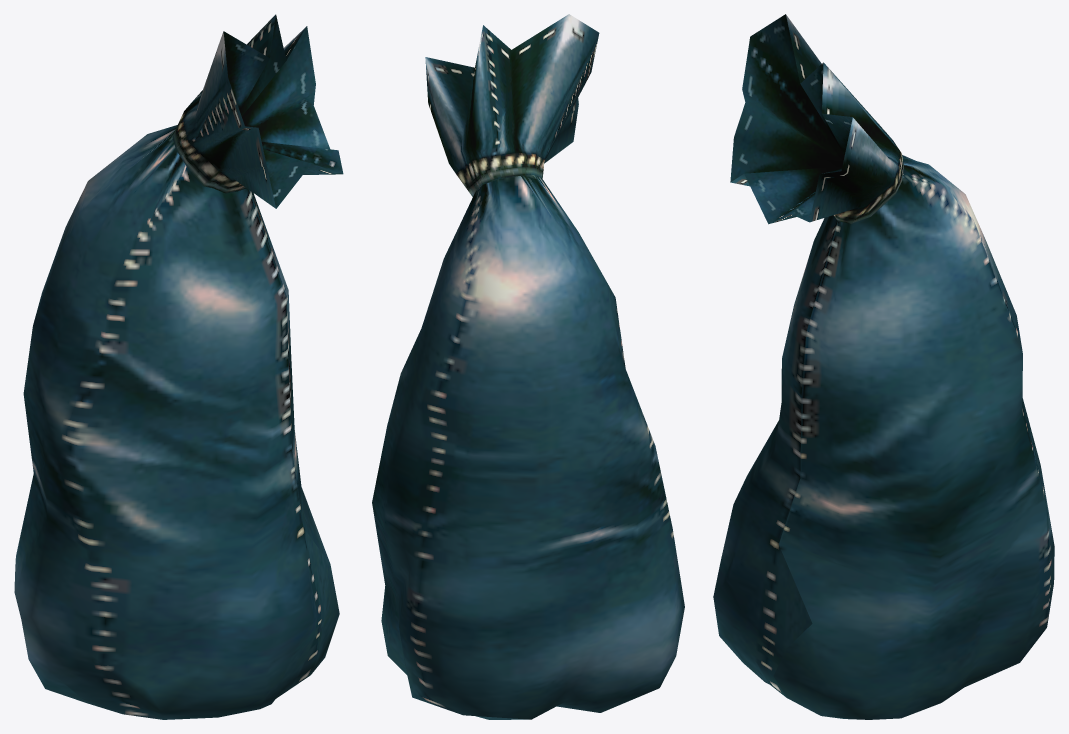
File: ct_ubag.glb
The picture shows the model from 3 angles, left to right: view 1: azimuth 30°, elevation 25°; view 2: azimuth 150°, elevation 25°; view 3: azimuth 270°, elevation 25°; orthographic projection. The views are drawn at different scales.
Visible parts, largest first — view 1: ct_ubag-col; view 2: ct_ubag-col; view 3: ct_ubag-col.
Part boxes in pixels (left/top/right/bottom): ct_ubag-col: left=14, top=14, right=343, bottom=719; ct_ubag-col: left=372, top=14, right=684, bottom=719; ct_ubag-col: left=713, top=14, right=1054, bottom=719.
Bounding box in the file's own units: 0.4619 × 1.01 × 0.4741.
Materials: 1 (1 with a texture image).
